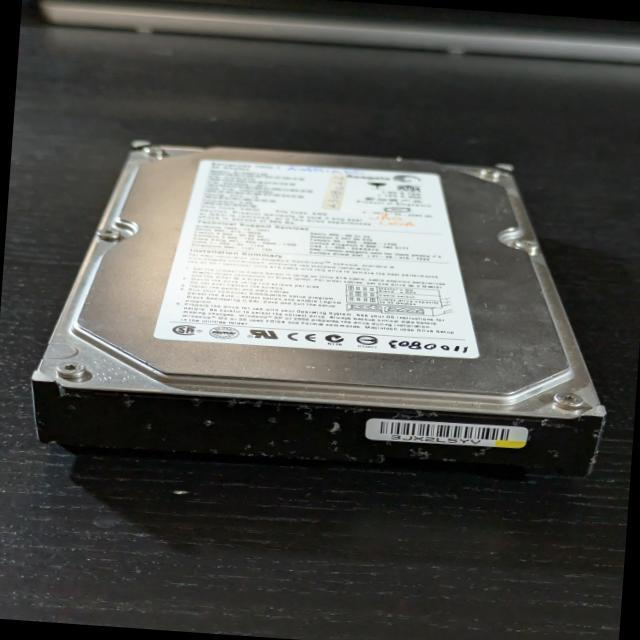DISK: (24, 131, 623, 485)
